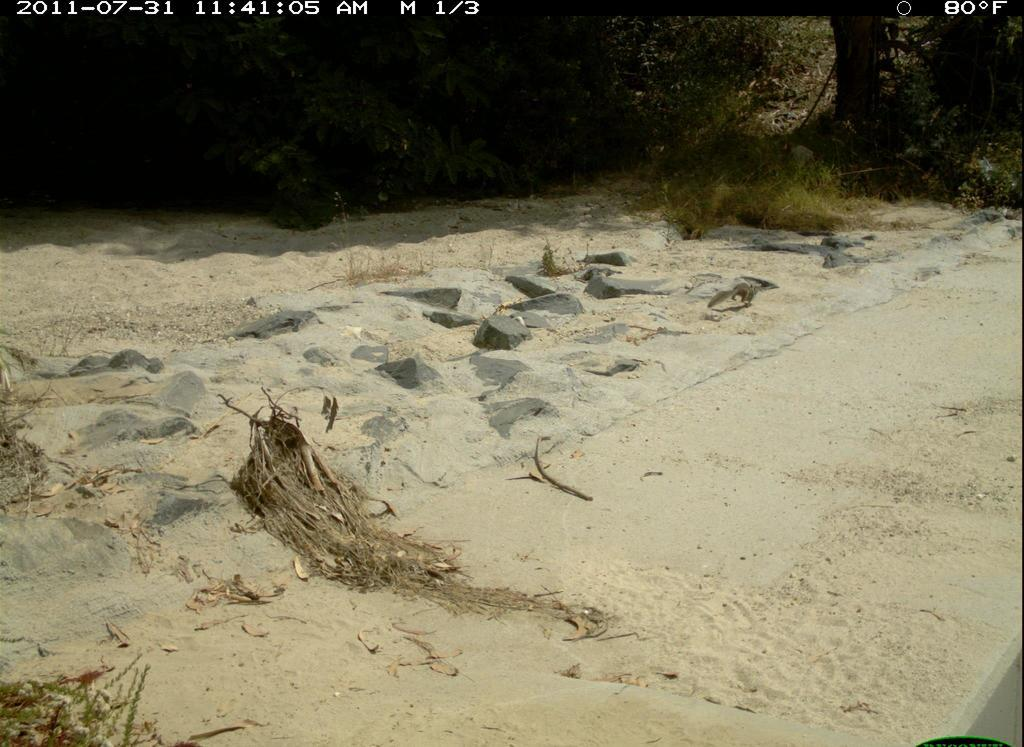squirrel: (702, 265, 783, 324)
